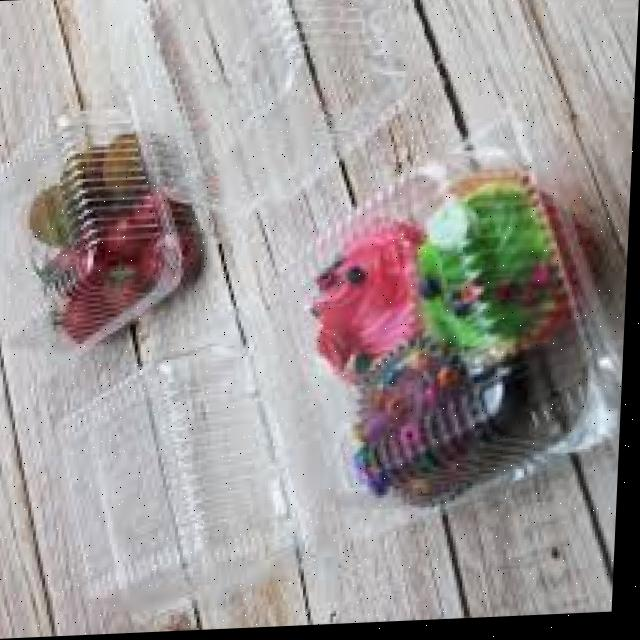disposable: (253, 90, 636, 543), (0, 101, 199, 367)
